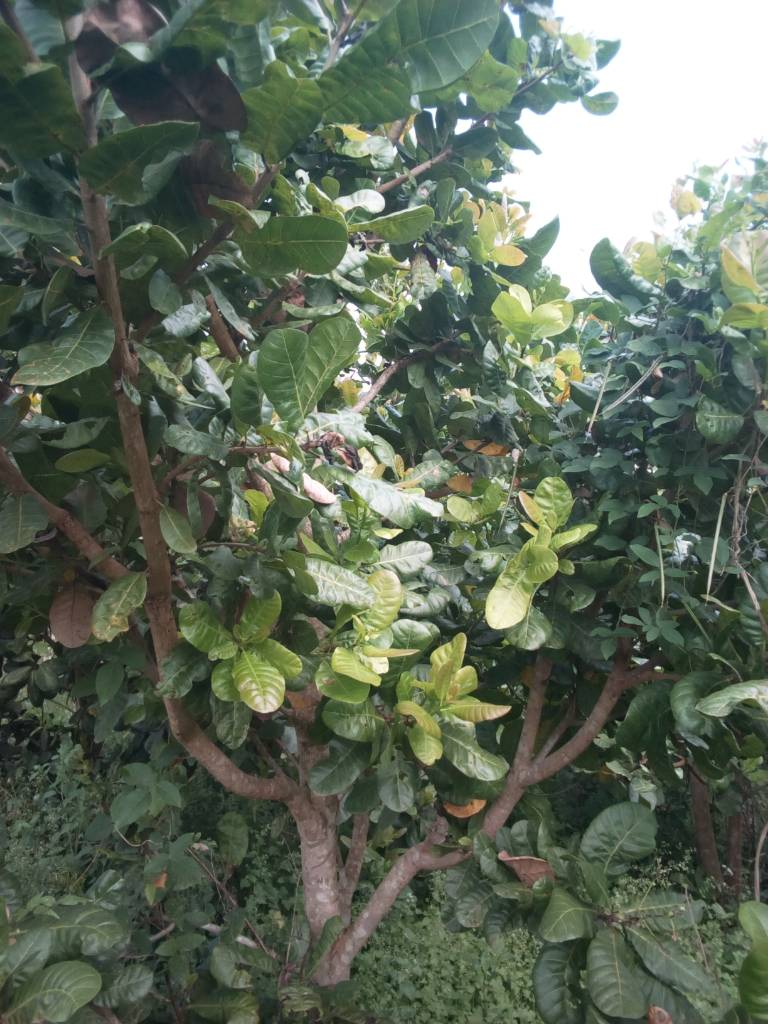Helopeltis anacardii: (80, 121, 204, 199), (91, 566, 154, 638)
